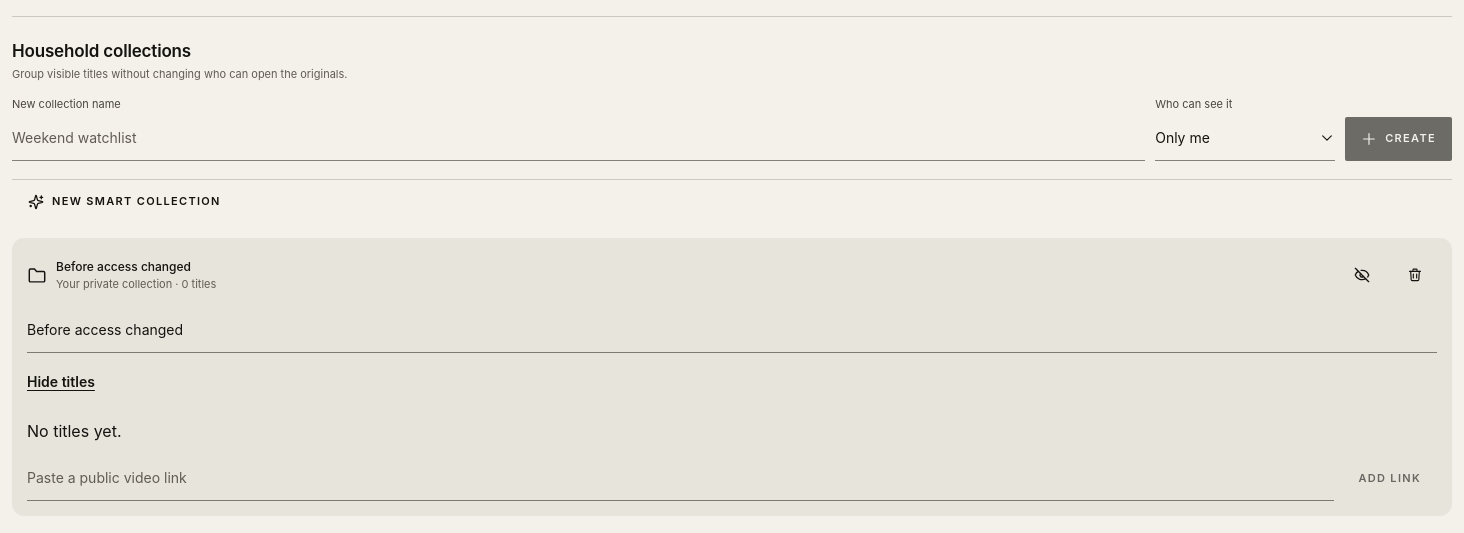
household collection recovery › drops a stale collection after access changes without exposing another member detail
The image size is (1464, 533).
expect the text "Before access changed" is shown: met, box [56,258,191,274]
Click the button named "delete before access changed" at coordinates (1415, 274), box [1393,252,1437,296]
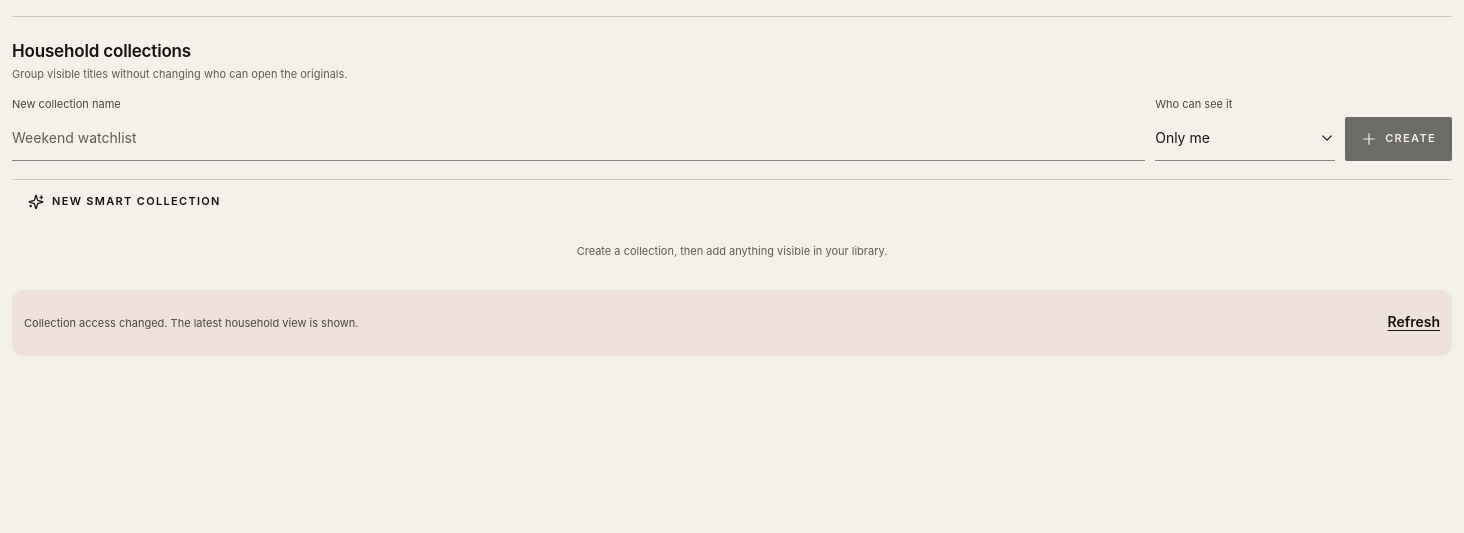
expect the message shows "Collection access changed. The latest household view is shown.": met, box [24,316,358,330]
expect the text "Before access changed" is gone: met
